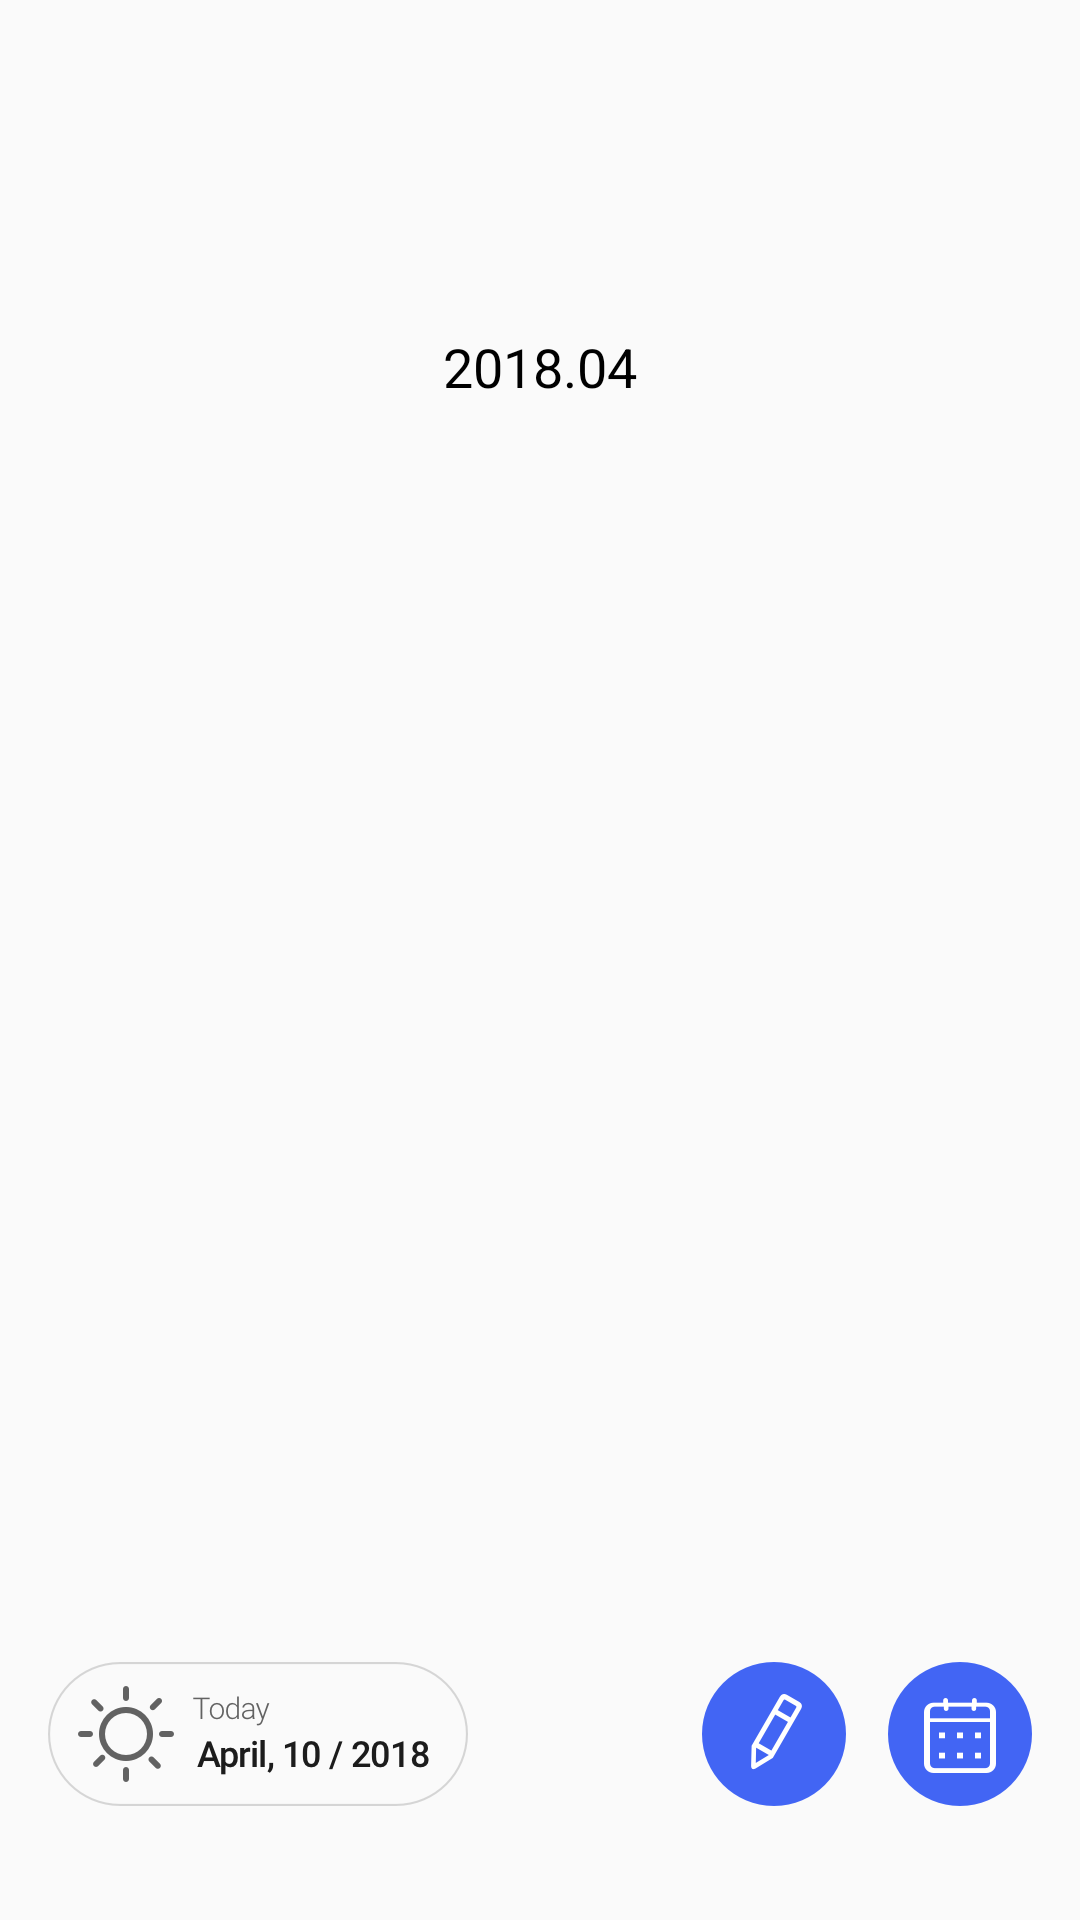

Named icons in this screenshot (1080*1920) and their centers, [x,y]:
write: [774,1734]
